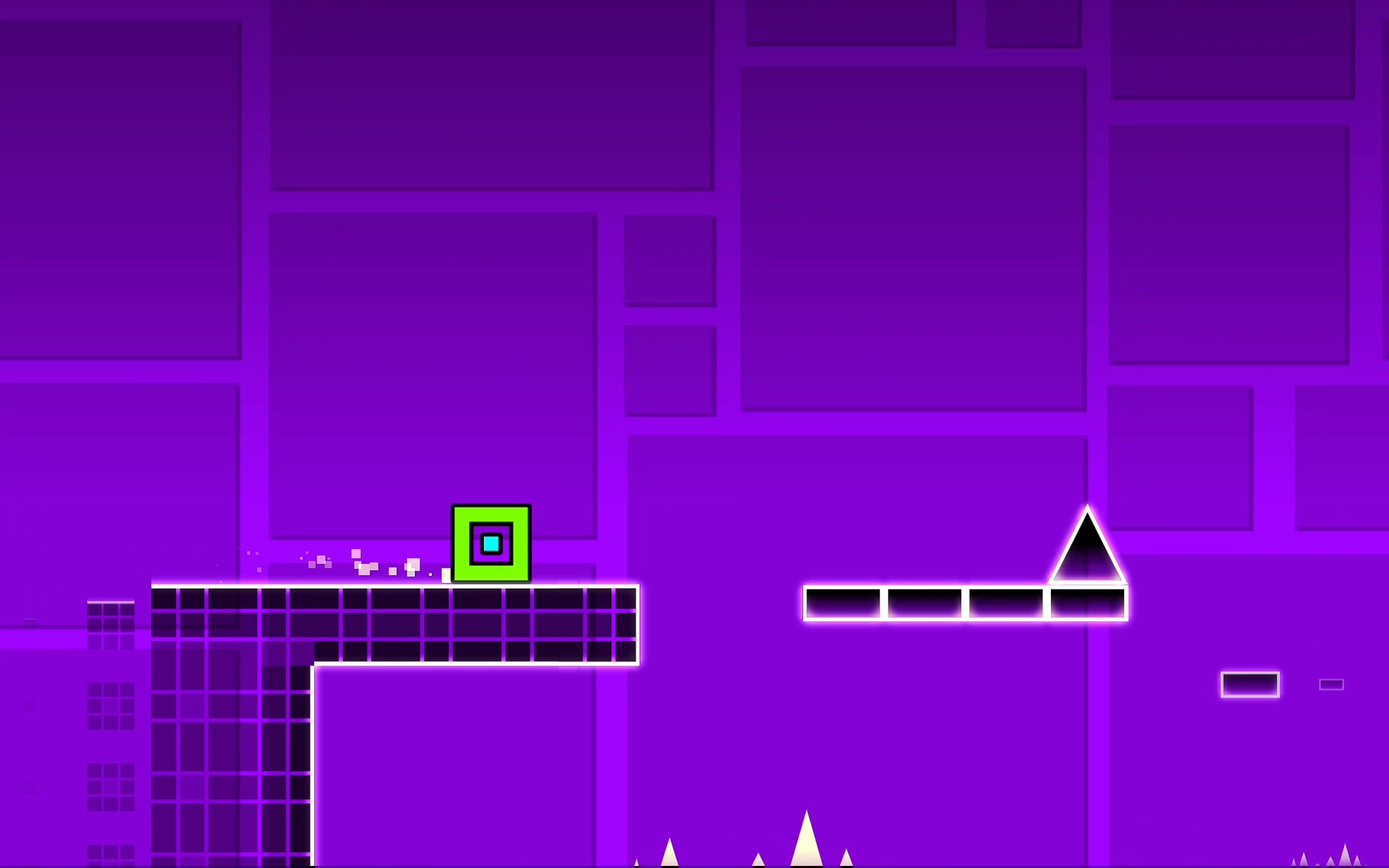Block2: (149, 583, 312, 868), (302, 588, 643, 661)
Block3: (1045, 583, 1120, 624), (804, 586, 884, 622), (968, 585, 1052, 619), (889, 588, 965, 619), (1220, 671, 1280, 698)
Player: (451, 504, 531, 582)
Spike: (1047, 505, 1127, 583)
